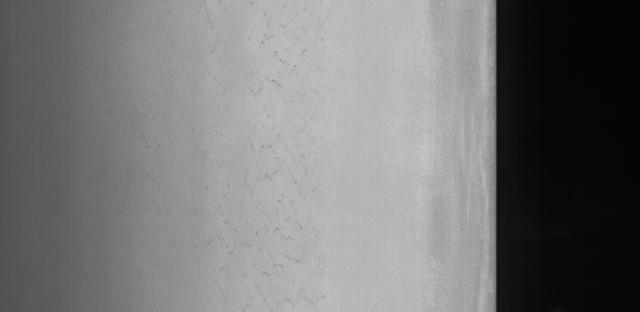silk_spot: (213, 1, 331, 308)
